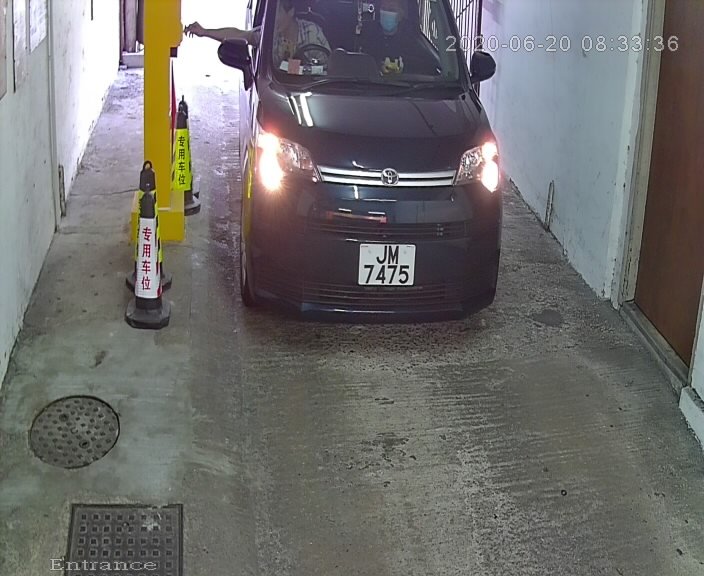privatecar: (223, 3, 545, 329)
